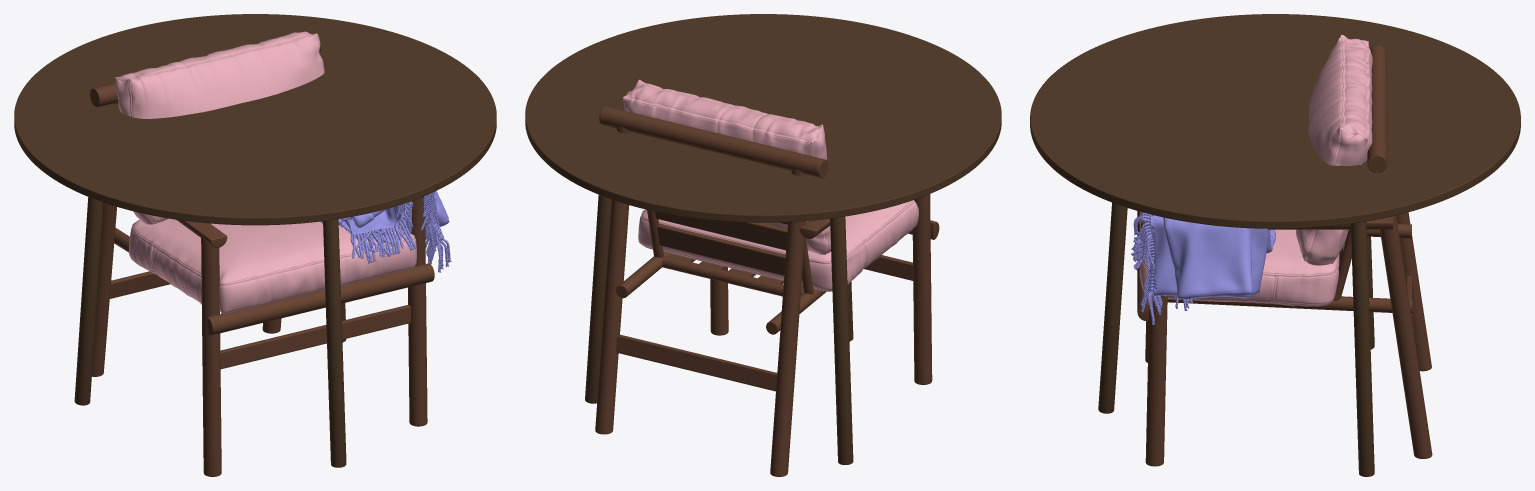
The model's file is format1.glb.
3 views of the same model, side by side, from view 1: azimuth 30°, elevation 25°; view 2: azimuth 150°, elevation 25°; view 3: azimuth 270°, elevation 25° (orthographic). The views are drawn at different scales.
Parts seen in each view (by area): view 1: Table, Chair, Plaid; view 2: Table, Chair; view 3: Table, Chair, Plaid.
Part boxes in pixels (x1=…): Table: x1=14, y1=14, x2=496, y2=467; Chair: x1=90, y1=31, x2=434, y2=476; Plaid: x1=320, y1=191, x2=451, y2=272; Table: x1=525, y1=14, x2=1001, y2=464; Chair: x1=595, y1=79, x2=939, y2=476; Table: x1=1030, y1=14, x2=1520, y2=476; Chair: x1=1137, y1=35, x2=1432, y2=466; Plaid: x1=1131, y1=213, x2=1275, y2=324.
Size of the model in its own units: 2 by 1.49 by 2.
